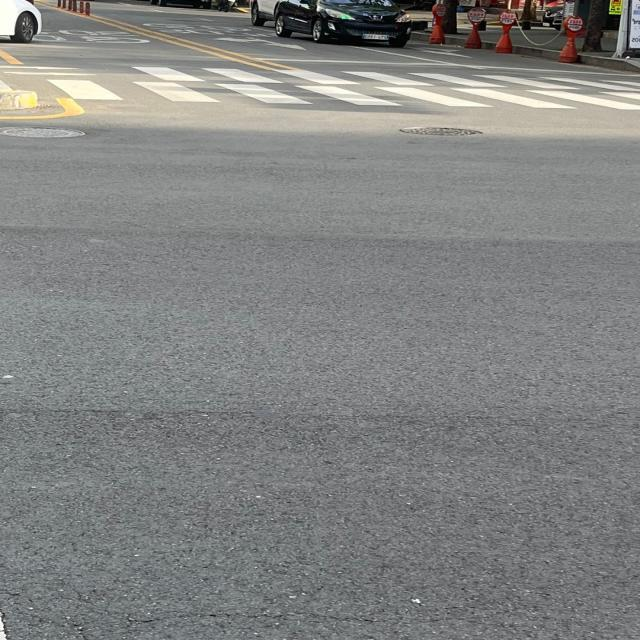Sewer Cover: (388, 119, 497, 150), (0, 119, 95, 149)
